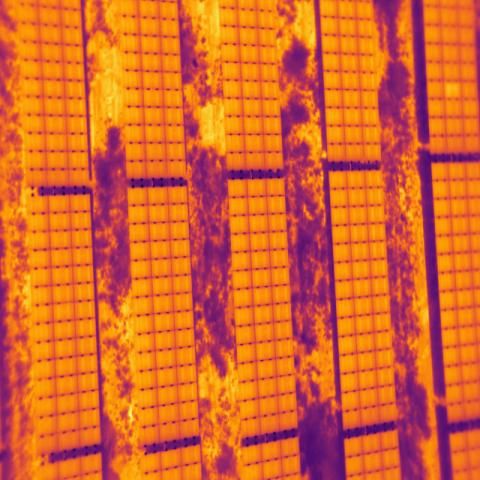fault: (444, 81, 462, 99)
